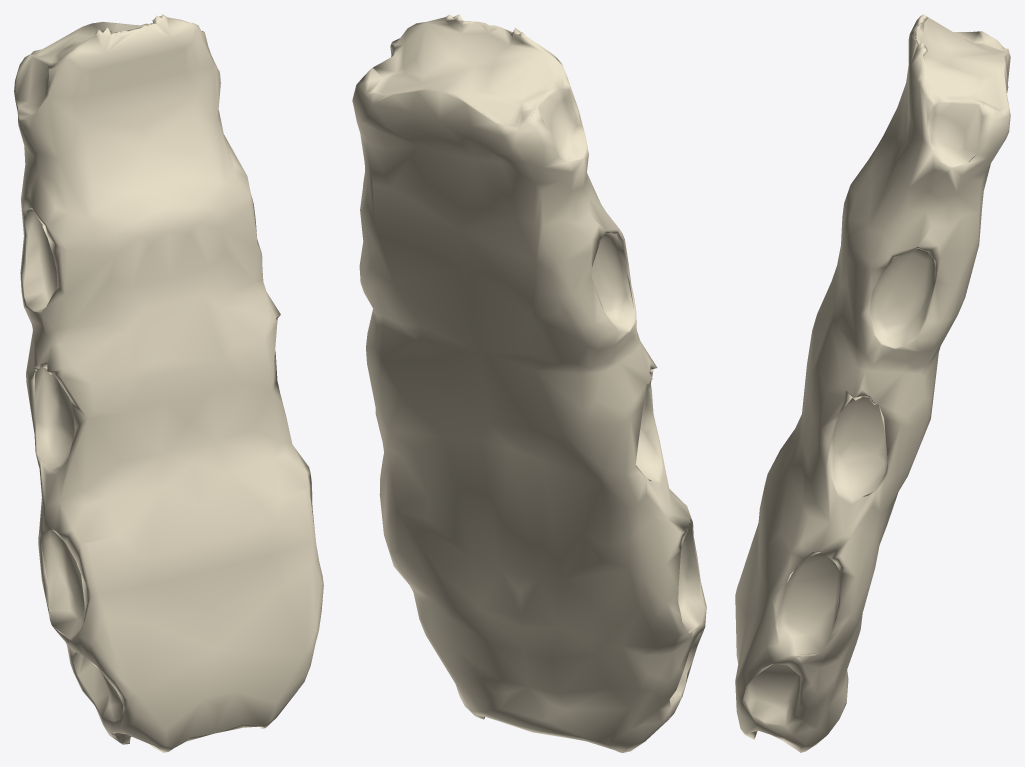
Rendered from esqueleto-body-of-sternum.glb.
3 views of the same model, side by side, from view 1: azimuth 30°, elevation 25°; view 2: azimuth 150°, elevation 25°; view 3: azimuth 270°, elevation 25° (orthographic). The views are drawn at different scales.
Visible parts, largest first — view 1: Body of sternum; view 2: Body of sternum; view 3: Body of sternum.
Boxes of the visible parts, left/top/right/bottom form: Body of sternum: left=14, top=14, right=323, bottom=752; Body of sternum: left=352, top=14, right=706, bottom=752; Body of sternum: left=735, top=14, right=1010, bottom=752.
Size of the model in its own units: 0.0493 by 0.1193 by 0.0431.
